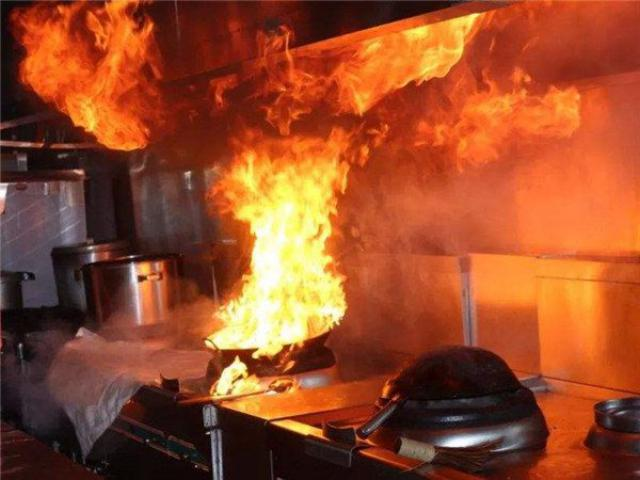fire: (13, 0, 157, 86), (218, 140, 344, 218), (448, 85, 576, 160), (218, 274, 342, 333), (258, 32, 304, 136), (249, 217, 329, 273), (386, 21, 462, 79), (61, 86, 155, 125), (337, 38, 385, 112), (95, 122, 155, 150), (214, 360, 253, 394), (249, 332, 299, 356), (413, 119, 451, 147), (459, 11, 498, 33)
